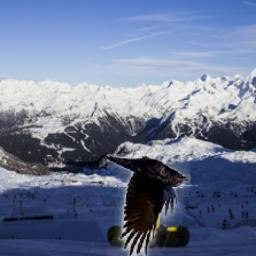Crow: (106, 155, 189, 256)
